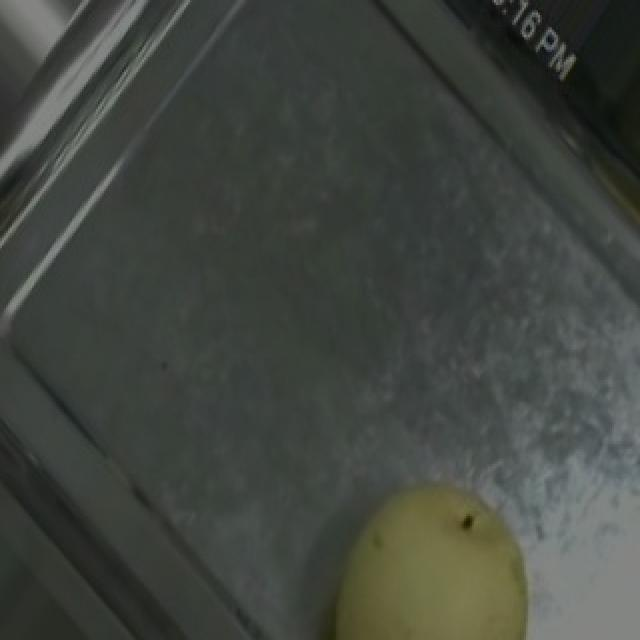Fruit: (296, 449, 566, 640)
